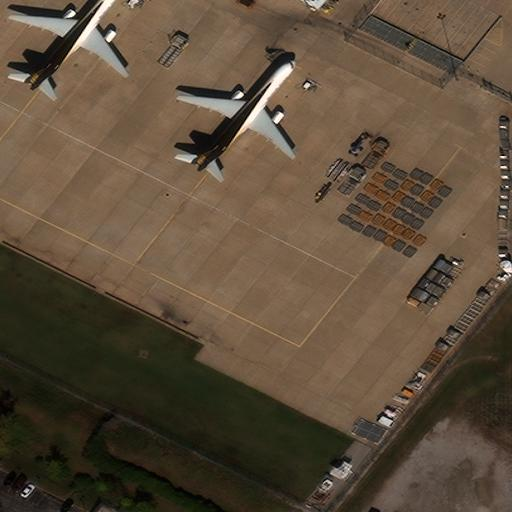Large Civil Transport: (179, 61, 294, 172), (11, 0, 126, 88)
